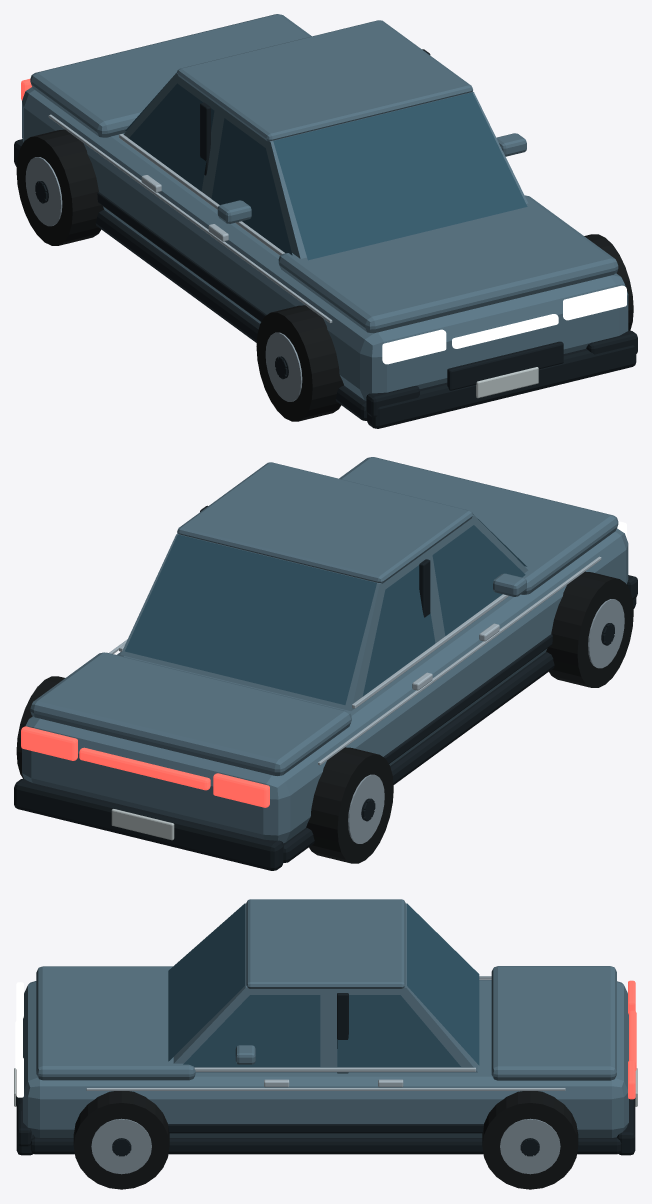
File: sedan.glb
3 renders of one model, top to bottom at view 1: azimuth 30°, elevation 25°; view 2: azimuth 150°, elevation 25°; view 3: azimuth 270°, elevation 25°, orthographic. The views are drawn at different scales.
Parts seen in each view (by area): view 1: body, windshield, hood, roof, trunk, wheel_l_front_tire, wheel_l_rear_tire, val_f, front_side_window, rear_side_window, skirt, cabin (+15 smaller); view 2: body, rear_window, trunk, roof, hood, val_r, wheel_l_rear_tire, wheel_l_front_tire, cabin, front_side_window, rear_side_window, skirt (+12 smaller); view 3: body, hood, trunk, roof, front_side_window.001, skirt, windshield, rear_window, rear_side_window.001, cabin, wheel_r_front_tire, wheel_r_rear_tire (+8 smaller).
Boxes of the visible parts, x1,y1,x2,y2 form: body: (22, 87, 628, 400); windshield: (273, 92, 527, 260); hood: (278, 195, 618, 333); roof: (177, 20, 472, 141); trunk: (30, 14, 311, 137); wheel_l_front_tire: (256, 305, 343, 421); wheel_l_rear_tire: (16, 129, 104, 245); val_f: (367, 345, 636, 428); front_side_window: (211, 118, 292, 255); rear_side_window: (129, 83, 214, 191); skirt: (95, 210, 366, 420); cabin: (124, 73, 528, 258); body: (22, 528, 628, 843); rear_window: (125, 534, 376, 704); trunk: (30, 652, 351, 776); roof: (177, 462, 473, 583); hood: (339, 457, 618, 594); val_r: (14, 778, 283, 870); wheel_l_rear_tire: (306, 747, 393, 863); wheel_l_front_tire: (546, 571, 633, 687); cabin: (120, 515, 528, 710); front_side_window: (432, 525, 525, 635); rear_side_window: (362, 565, 435, 696); skirt: (283, 652, 554, 862); body: (23, 979, 628, 1137); hood: (36, 966, 195, 1080); trunk: (491, 966, 616, 1080); roof: (246, 899, 405, 988); front_side_window.001: (183, 995, 320, 1066); skirt: (30, 1137, 621, 1154); windshield: (168, 903, 244, 1061); rear_window: (407, 903, 479, 1065); rear_side_window.001: (337, 995, 460, 1066); cabin: (173, 903, 477, 1072); wheel_r_front_tire: (73, 1091, 169, 1189); wheel_r_rear_tire: (482, 1091, 578, 1189).
Size of the model in its own units: 2.3 by 1.43 by 4.43.
